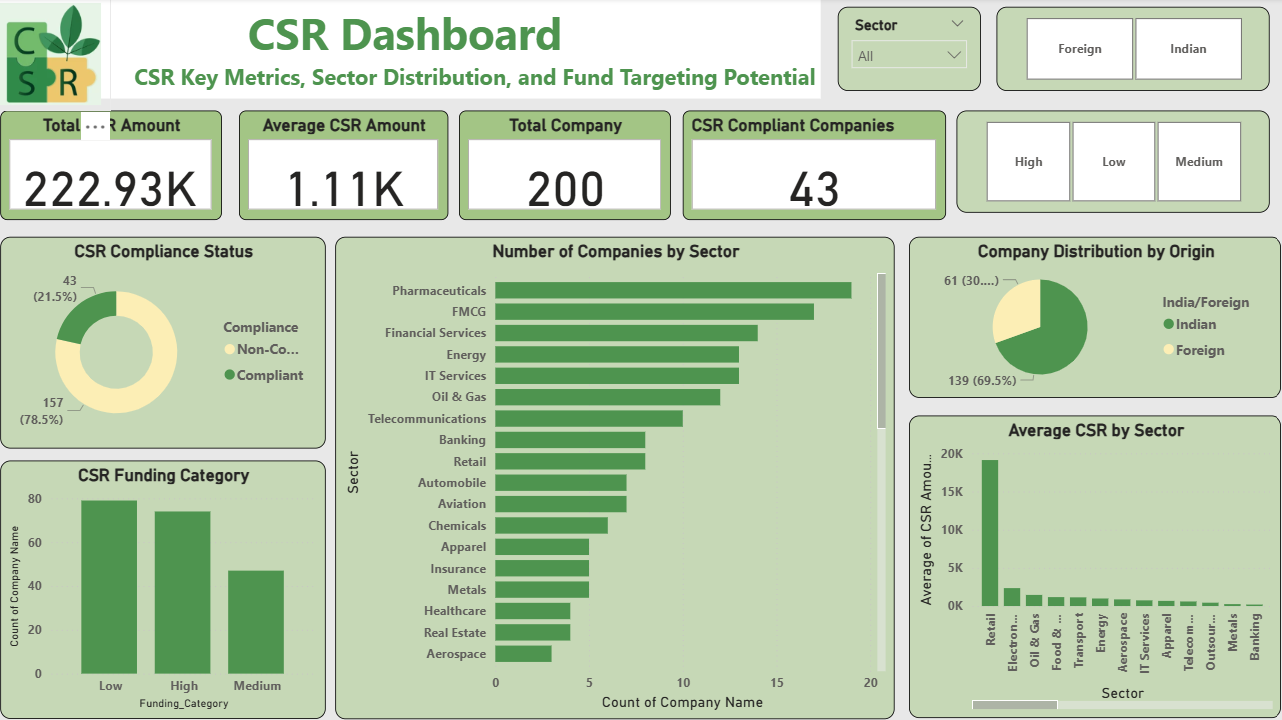

Layout of this report page (visuals, bound fields, positions):
{"tool":"powerbi","page":{"name":"Page 1","canvas":[1280,720],"ordinal":0},"visuals":[{"type":"textbox","box":[0,0,813.7,98.8],"z":0},{"type":"cardVisual","title":"Total CSR Amount","fields":{"Data":["Sum(Sheet1.CSR Amount)"]},"box":[11,109.8,216.8,107],"z":1000},{"type":"cardVisual","title":"Average CSR Amount","fields":{"Data":["Avg(Sheet1.CSR Amount)"]},"box":[244.3,109.8,204.5,107],"z":2000},{"type":"cardVisual","title":"Total Company","fields":{"Data":["CountNonNull(Sheet1.Company Name)"]},"box":[459.7,109.8,207.2,107],"z":3000},{"type":"cardVisual","title":"CSR Compliant Companies","fields":{"Data":["Sum(Sheet1.CSR_Compliance_Status)"]},"box":[679.2,109.8,258,107],"z":4000},{"type":"pieChart","title":"Company Distribution by Origin","fields":{"Y":["CountNonNull(Sheet1.Company Name)"],"Category":["Sheet1.Company_Type"]},"box":[900.2,233.3,365,157.8],"z":5000},{"type":"donutChart","title":"CSR Compliance Status","fields":{"Y":["CountNonNull(Sheet1.Company Name)"],"Category":["Sheet1.Compliance"]},"box":[11,233.3,318.4,207.2],"z":6000},{"type":"clusteredBarChart","title":"Number of Companies by Sector","fields":{"Category":["Sheet1.Sector"],"Y":["CountNonNull(Sheet1.Company Name)"]},"box":[338.9,233.3,547.5,472],"z":7000},{"type":"clusteredColumnChart","title":"CSR Funding Category","fields":{"Category":["Sheet1.Funding_Category"],"Y":["CountNonNull(Sheet1.Company Name)"]},"box":[11,452.8,318.4,252.5],"z":8000},{"type":"clusteredColumnChart","title":"Average CSR  by Sector","fields":{"Category":["Sheet1.Sector"],"Y":["Avg(Sheet1.CSR Amount)"]},"box":[900.2,408.9,365,296.4],"z":9000},{"type":"slicer","fields":{"Values":["Sheet1.Sector"]},"box":[830.2,8.2,140,82.3],"z":10000},{"type":"slicer","fields":{"Values":["Sheet1.Company_Type"]},"box":[985.3,8.2,267.6,82.3],"z":11000},{"type":"slicer","fields":{"Values":["Sheet1.Funding_Category"]},"box":[946.8,109.8,306,100.2],"z":12000},{"type":"image","box":[0,0,119.4,109.8],"z":13000}]}

Visuals, with their boxes in screenshot pixels (x1, y1, x2, y2), scaled from the page's 1280x720 canvas onto the 1282x720 screenshot:
textbox: left=0, top=0, right=815, bottom=99
"Total CSR Amount" cardVisual: left=11, top=110, right=228, bottom=217
"Average CSR Amount" cardVisual: left=245, top=110, right=450, bottom=217
"Total Company" cardVisual: left=460, top=110, right=668, bottom=217
"CSR Compliant Companies" cardVisual: left=680, top=110, right=939, bottom=217
"Company Distribution by Origin" pieChart: left=902, top=233, right=1267, bottom=391
"CSR Compliance Status" donutChart: left=11, top=233, right=330, bottom=440
"Number of Companies by Sector" clusteredBarChart: left=339, top=233, right=888, bottom=705
"CSR Funding Category" clusteredColumnChart: left=11, top=453, right=330, bottom=705
"Average CSR  by Sector" clusteredColumnChart: left=902, top=409, right=1267, bottom=705
slicer - Sheet1.Sector: left=831, top=8, right=972, bottom=90
slicer - Sheet1.Company_Type: left=987, top=8, right=1255, bottom=90
slicer - Sheet1.Funding_Category: left=948, top=110, right=1255, bottom=210
image: left=0, top=0, right=120, bottom=110
